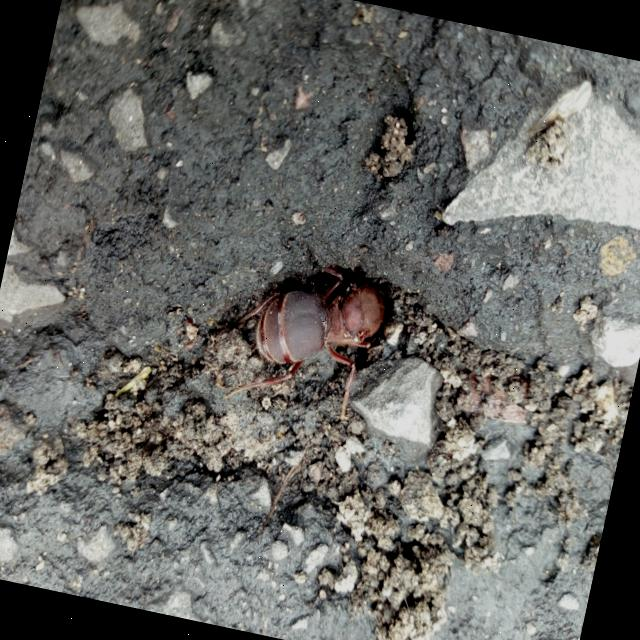Alive-Female-Dealate: (200, 228, 396, 428)
